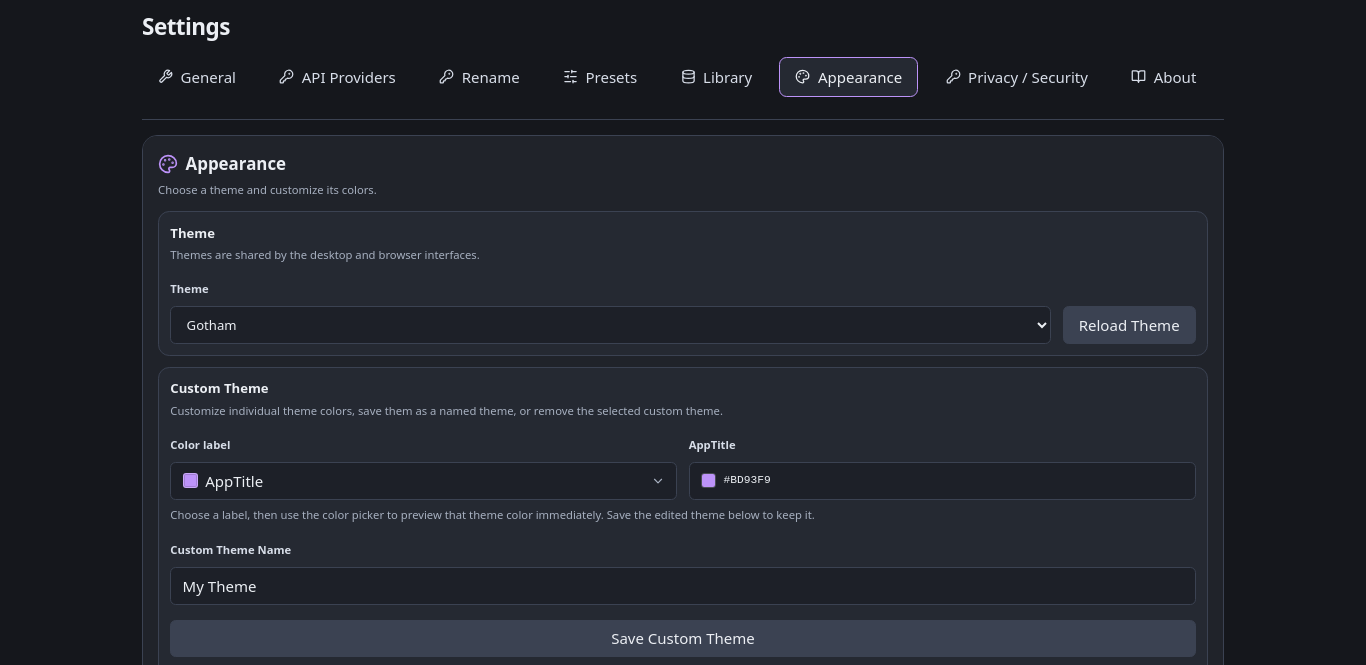
Settings library folders › opens and dismisses the compact Add Server form on demand
Click the button "Library" at point(716, 77), box [664,57,768,96]
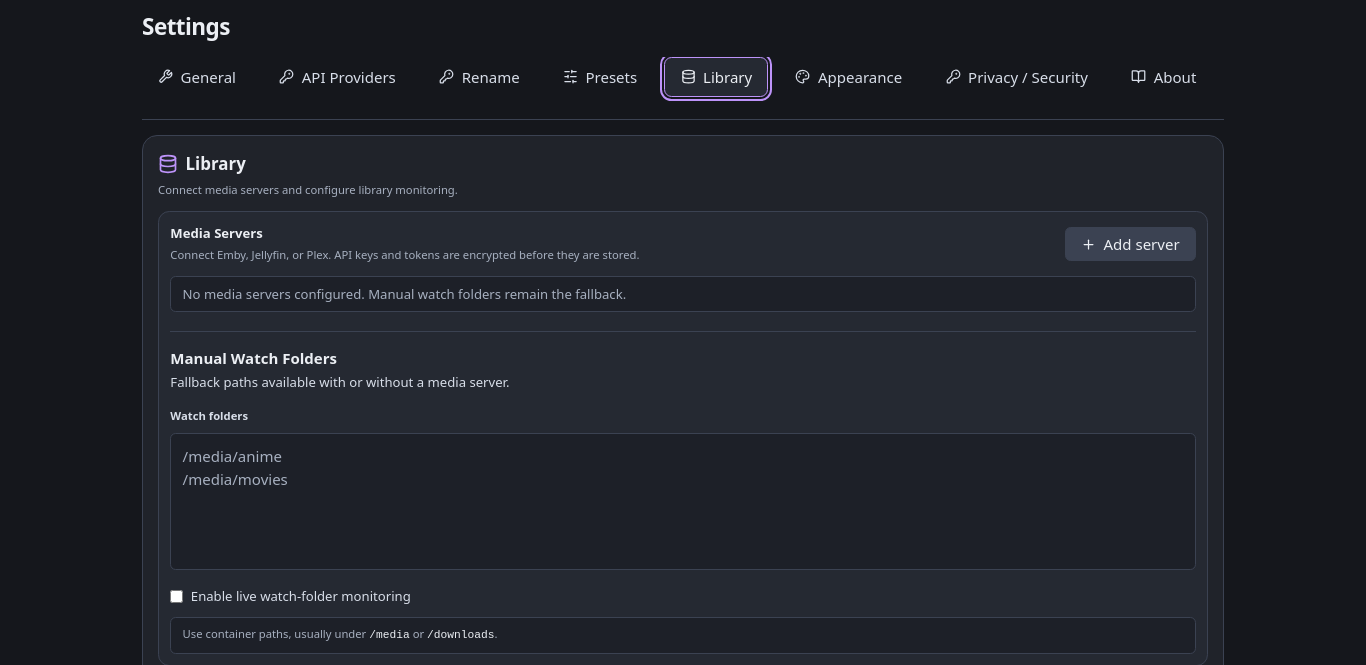
Expected: the heading "Add a server" is not shown
Click the button "Add server" at point(1130, 244), box [1065,227,1196,261]
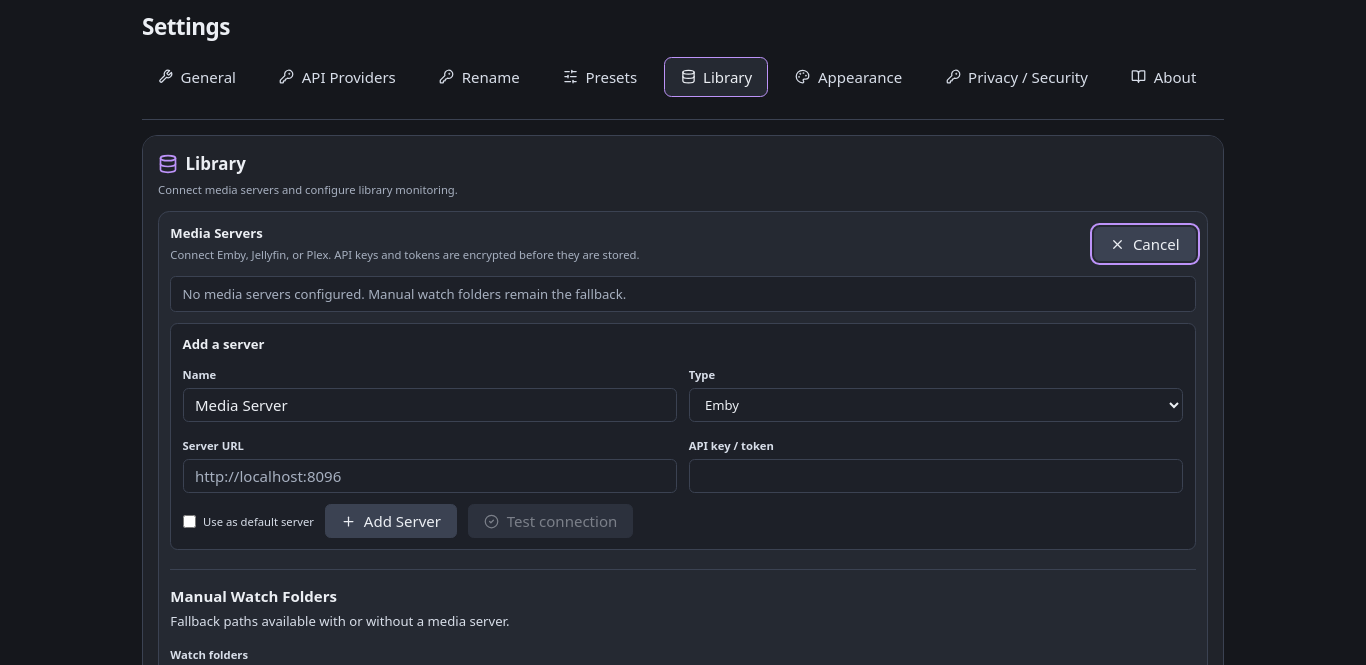
Expected: the heading "Add a server" is shown, [183,335,264,353]
Expected: the button "Cancel" is expanded
Click the button "Cancel" at point(1145, 244), box [1094,227,1196,261]
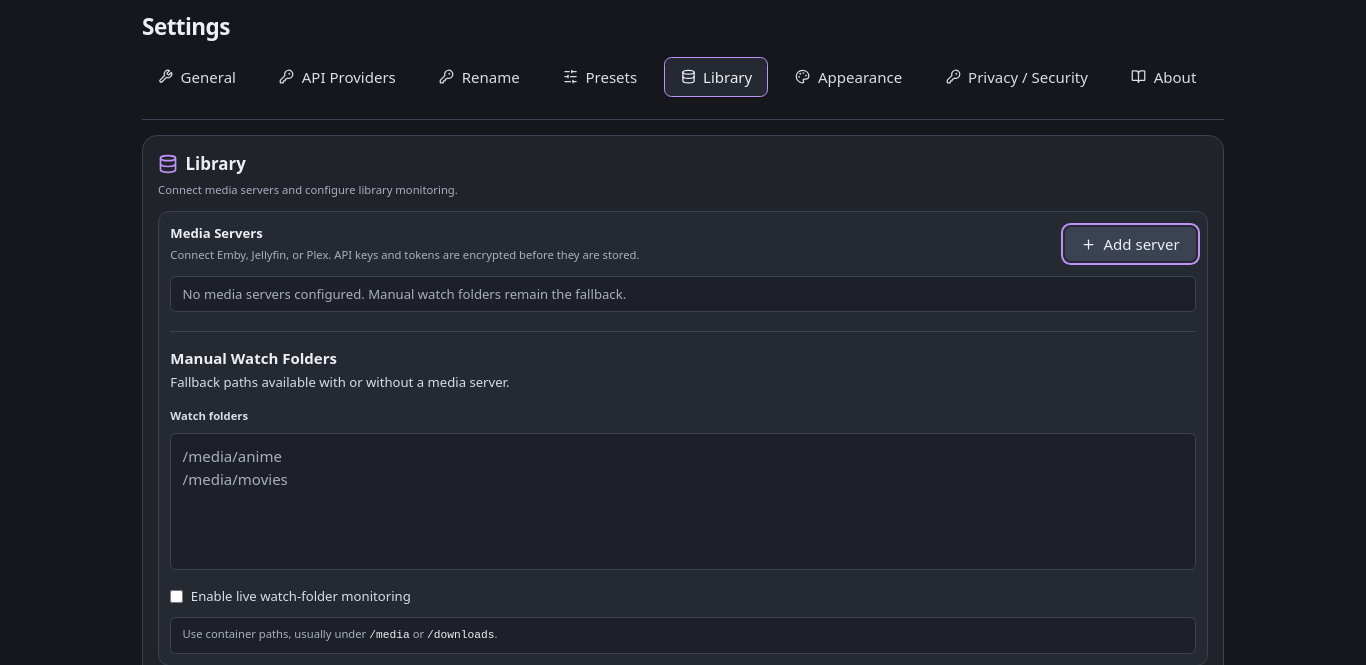
Expected: the heading "Add a server" is gone
